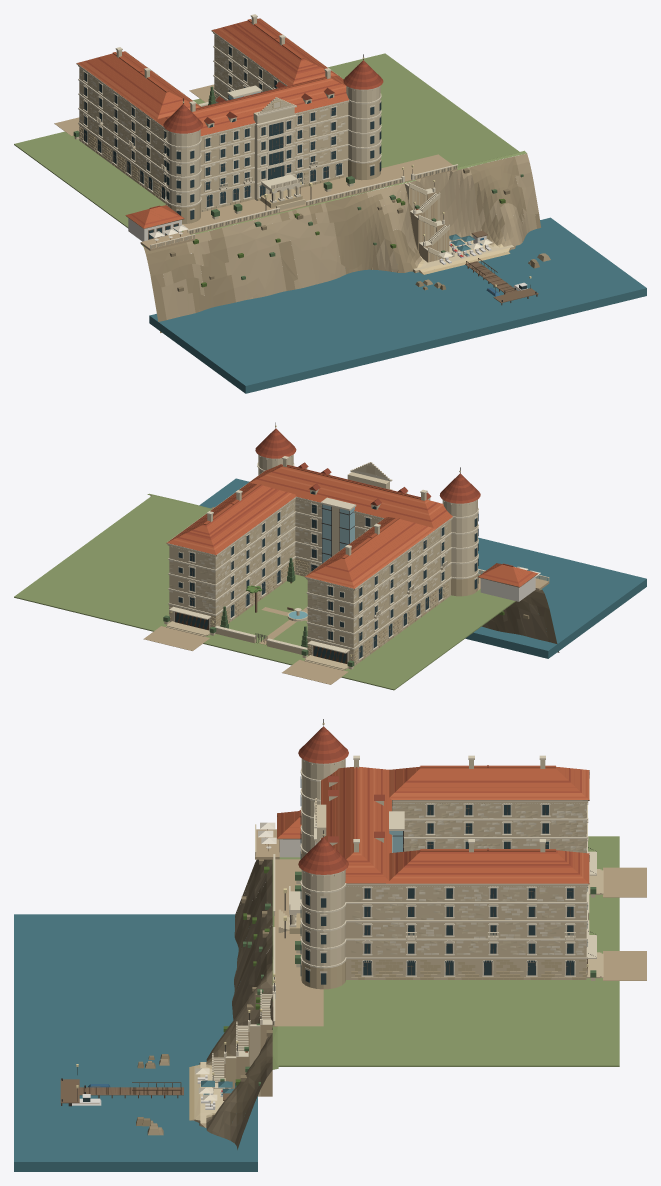
The model's file is the-imperial-kemskoy-viki.glb.
The picture shows the model from 3 angles, top to bottom: view 1: azimuth 30°, elevation 25°; view 2: azimuth 150°, elevation 25°; view 3: azimuth 270°, elevation 25°; orthographic projection. The views are drawn at different scales.
Visible parts, largest first — view 1: deniz, kaya, cimen, kaya2, silme, kesme2, kiremit1, kesme, tas3, cam, kiremit4, rustik (+8 smaller); view 2: cimen, kesme2, kiremit1, silme, deniz, kesme, cam, kiremit4, tas3, kiremit3, rustik, kaya2 (+9 smaller); view 3: deniz, cimen, kesme2, kiremit1, silme, kesme, tas3, kaya, kaya2, cam, kiremit4, kiremit3 (+5 smaller).
Part boxes in pixels (<box>): deniz: <box>149,217,646,393</box>; kaya: <box>161,153,550,319</box>; cimen: <box>14,53,526,246</box>; kaya2: <box>143,156,540,332</box>; silme: <box>76,14,457,257</box>; kesme2: <box>78,33,447,262</box>; kiremit1: <box>79,18,348,228</box>; kesme: <box>74,17,457,258</box>; tas3: <box>54,84,457,262</box>; cam: <box>83,46,526,289</box>; kiremit4: <box>97,18,383,208</box>; rustik: <box>79,92,380,223</box>; cimen: <box>14,493,541,690</box>; kesme2: <box>166,465,452,670</box>; kiremit1: <box>166,464,538,587</box>; silme: <box>167,454,549,663</box>; deniz: <box>199,478,646,658</box>; kesme: <box>164,455,549,669</box>; cam: <box>175,491,478,662</box>; kiremit4: <box>177,431,513,572</box>; tas3: <box>143,574,549,684</box>; kiremit3: <box>173,464,443,588</box>; rustik: <box>169,558,478,663</box>; kaya2: <box>211,507,559,652</box>; deniz: <box>14,914,257,1171</box>; cimen: <box>272,836,619,1069</box>; kesme2: <box>213,801,603,1096</box>; kiremit1: <box>277,765,589,883</box>; silme: <box>212,755,596,1088</box>; kesme: <box>212,759,595,1080</box>; tas3: <box>213,829,646,1096</box>; kaya: <box>147,864,273,1147</box>; kaya2: <box>136,859,272,1149</box>; cam: <box>83,776,587,1101</box>; kiremit4: <box>298,730,579,874</box>; kiremit3: <box>337,767,589,878</box>.
Size of the model in its own units: 107 by 49.25 by 116.
